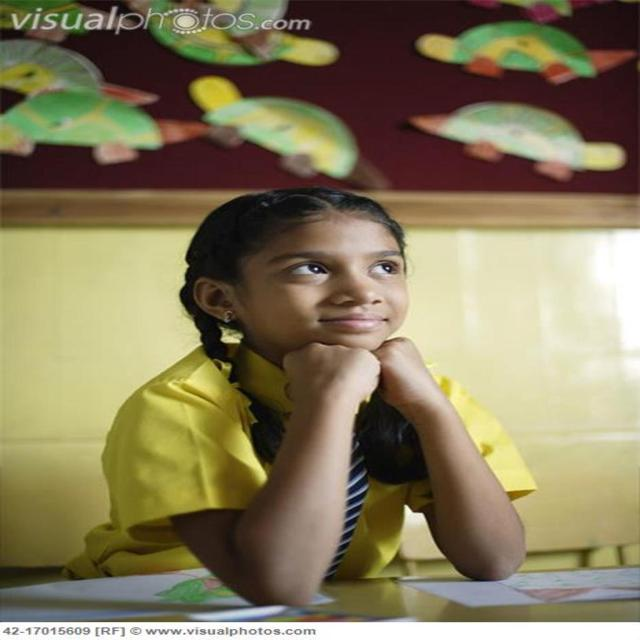Face: (237, 222, 427, 377)
